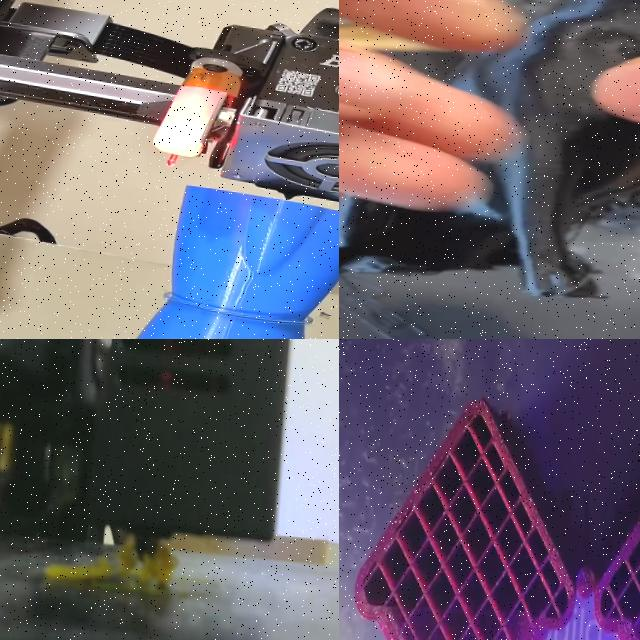spaghetti: (44, 534, 177, 590), (566, 165, 640, 252)
